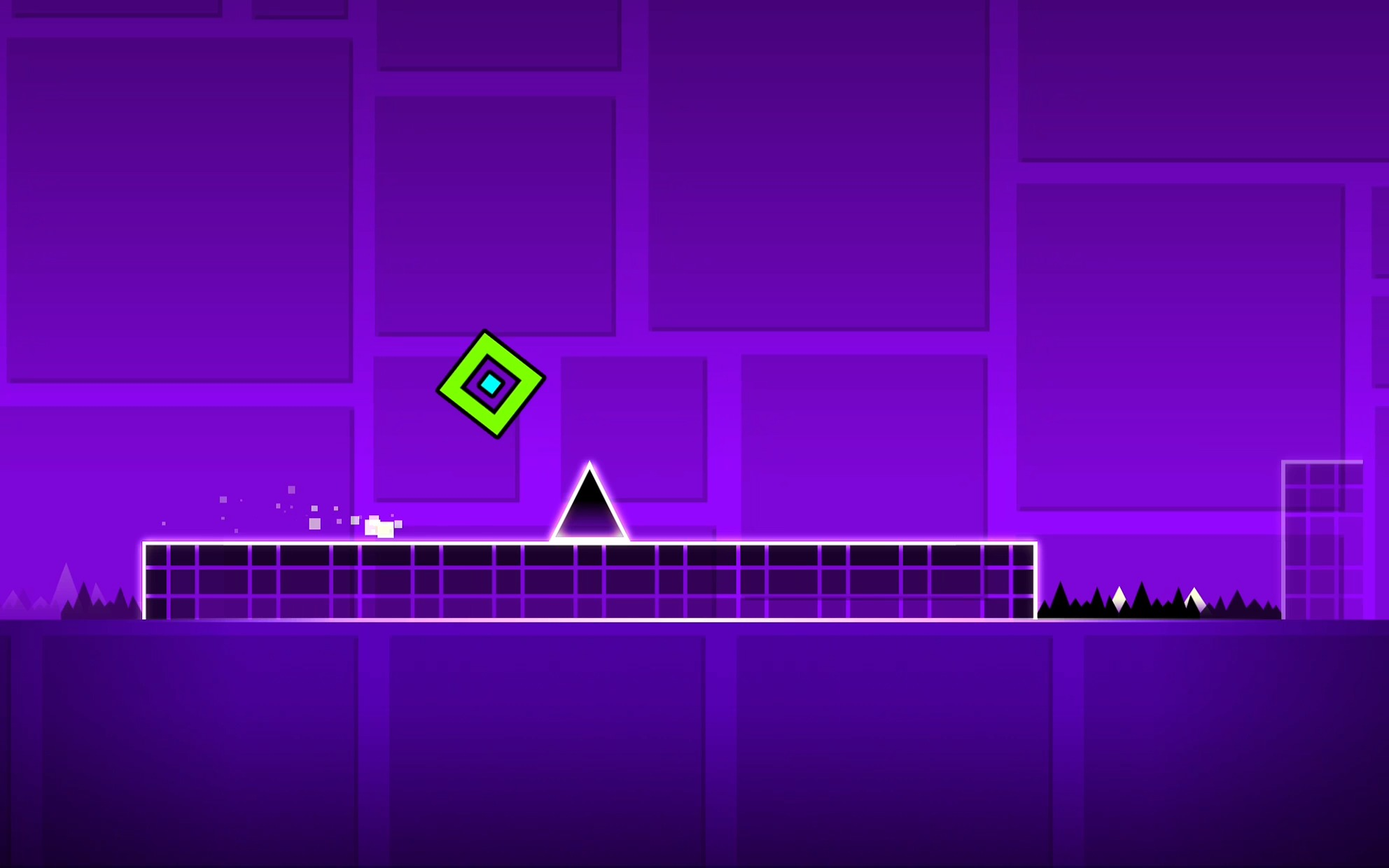Block2: (148, 540, 1035, 617), (1282, 460, 1364, 620)
Player: (436, 330, 546, 435)
Spike: (552, 462, 628, 540)
Spike3: (1040, 584, 1282, 622)
